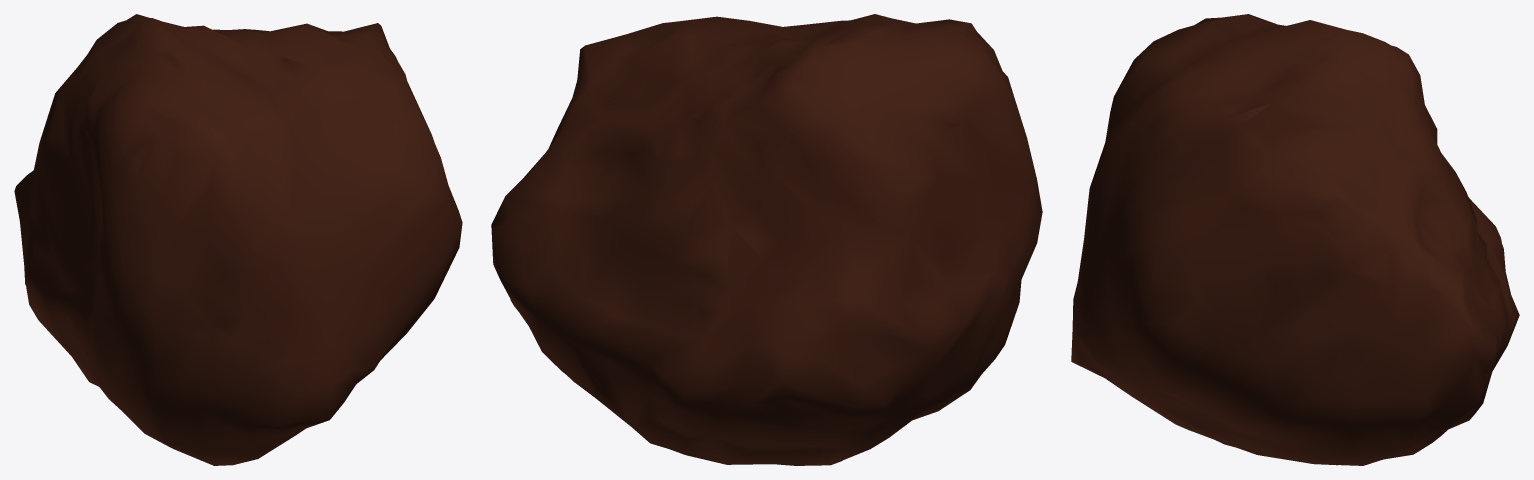
File: Roca.fbx
The picture shows the model from 3 angles, left to right: view 1: azimuth 30°, elevation 25°; view 2: azimuth 150°, elevation 25°; view 3: azimuth 270°, elevation 25°; orthographic projection. The views are drawn at different scales.
Visible parts, largest first — view 1: Landscape.001; view 2: Landscape.001; view 3: Landscape.001.
Part boxes in pixels (left/top/right/bottom): Landscape.001: left=14, top=14, right=462, bottom=465; Landscape.001: left=491, top=14, right=1042, bottom=465; Landscape.001: left=1071, top=14, right=1519, bottom=465.
Size of the model in its own units: 84.51 by 85.12 by 88.62.
1 material, 1 textured.
